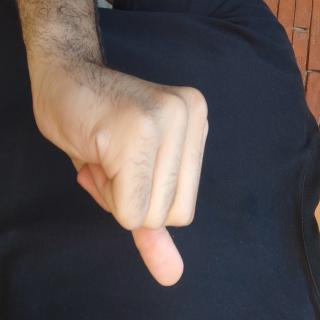WAW: (27, 138, 216, 320)
